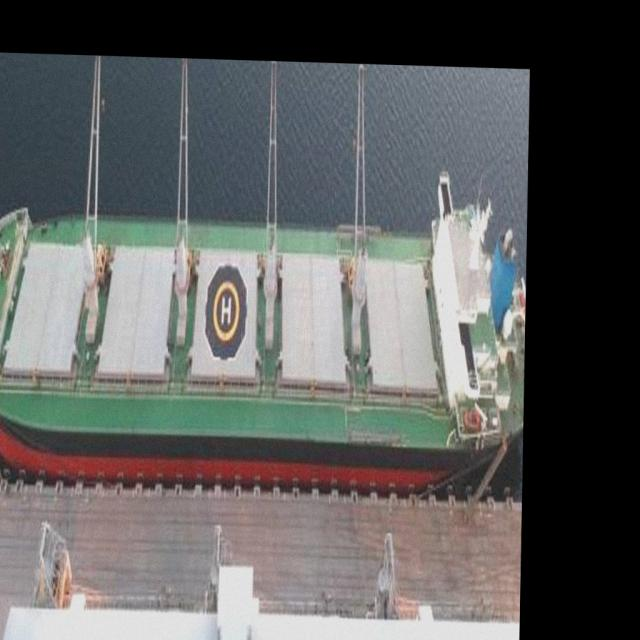helipad: (210, 278, 240, 343)
